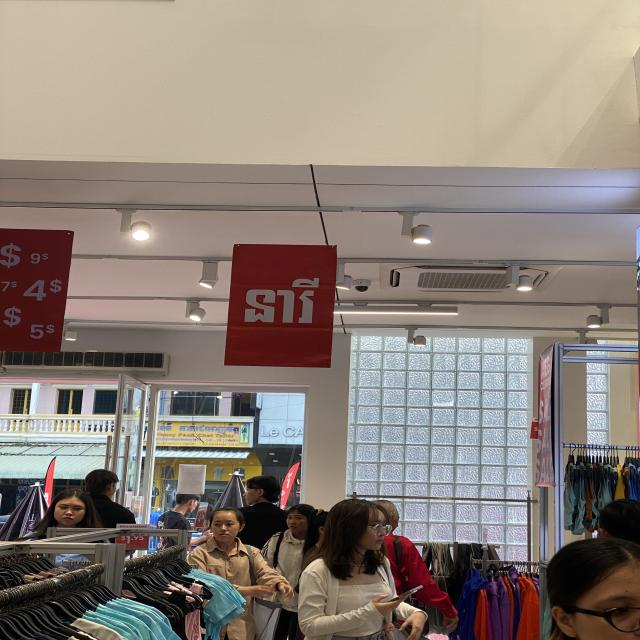741: (22, 277, 63, 301)
766: (28, 321, 57, 341)
821: (0, 279, 18, 294)
875: (28, 253, 49, 264)
Yolov11_80vkh: (240, 277, 326, 327), (179, 422, 240, 434), (0, 242, 24, 270), (2, 304, 26, 328), (159, 421, 174, 433)
